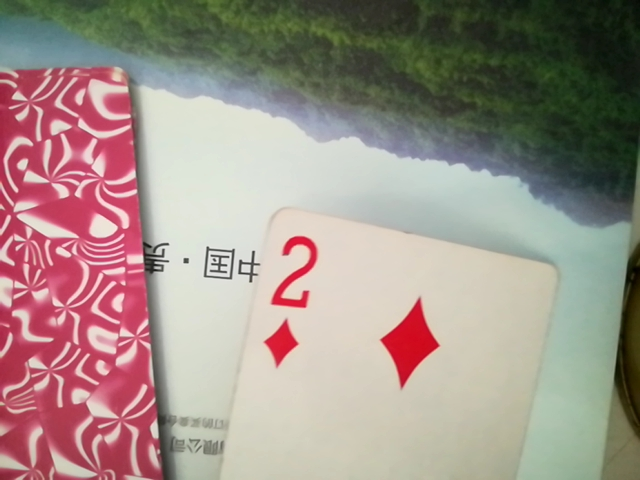fk 2: (212, 189, 582, 477)
